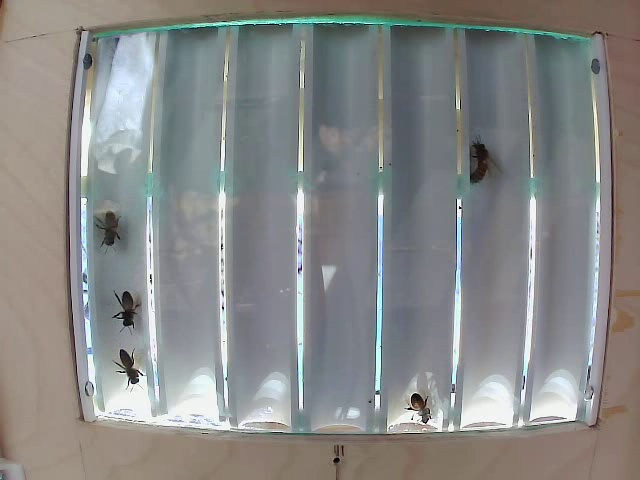bee: (445, 124, 498, 188), (101, 286, 156, 333), (88, 201, 132, 256), (107, 341, 160, 383), (390, 375, 430, 423)
